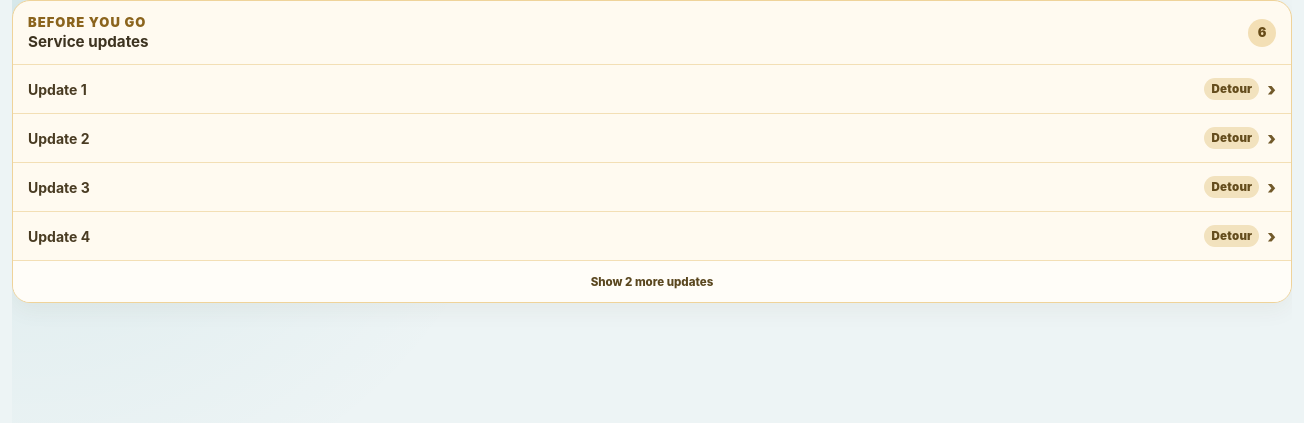
Test: does not silently hide service updates beyond the first four
expect the text "Update 1" is shown: met, box left=28, top=80, right=87, bottom=98
expect the text "Update 4" is shown: met, box left=28, top=228, right=90, bottom=244
What coordinates should you click on to do the following:
click the button "Show 2 more updates"
I would click on:
 (652, 281)
Its box is left=13, top=260, right=1291, bottom=302.
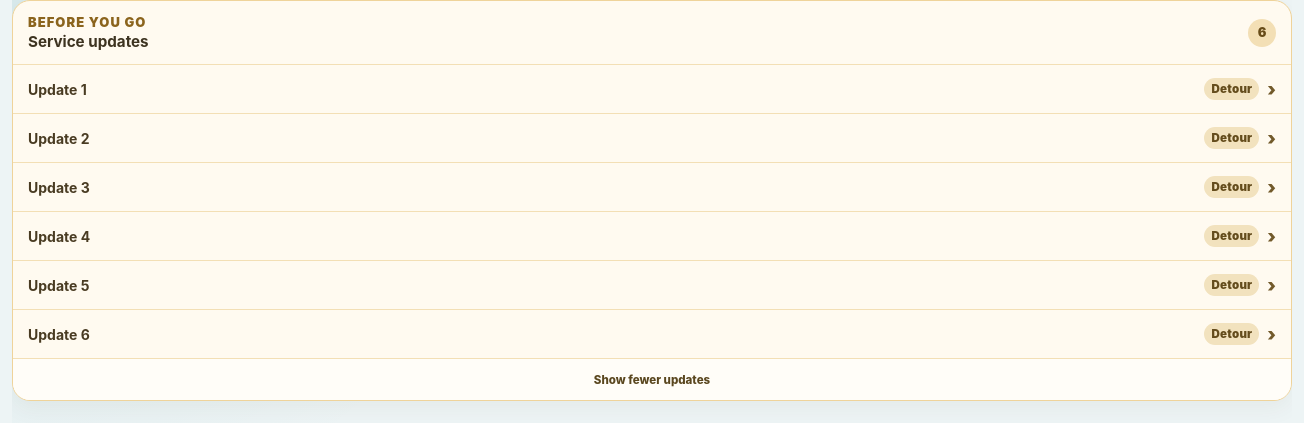
expect the text "Update 5" is shown: met, box left=28, top=276, right=89, bottom=294
expect the text "Update 6" is shown: met, box left=28, top=326, right=90, bottom=342
expect the button "Show fewer updates" is expanded: met, box left=13, top=358, right=1291, bottom=400
